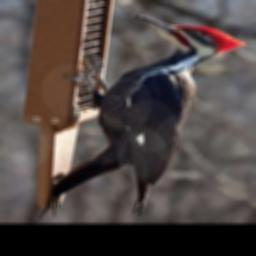Woodpecker: (39, 12, 249, 219)
